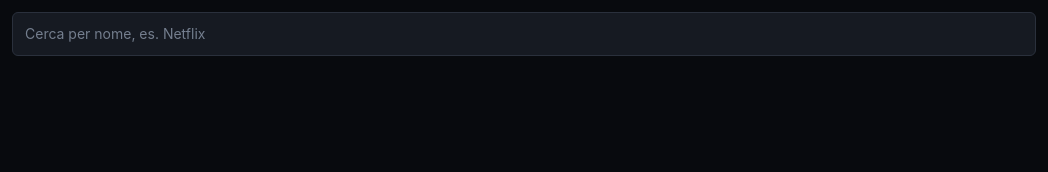
Test: TvdbCompanySelect › dice quando non trova nulla
The width and height of the screenshot is (1048, 172).
In the dropdown: (524, 34) [12, 12, 1036, 56], type "zzz"
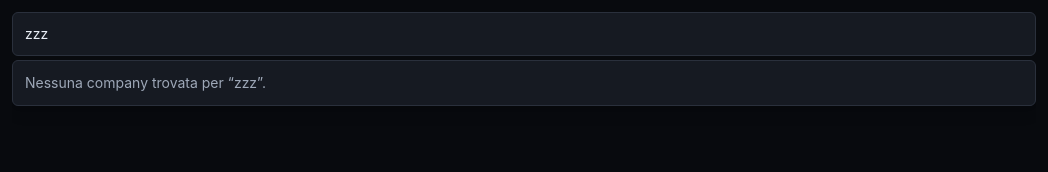
Check: the text "Nessuna company trovata per “zzz”." is shown, box [25, 74, 266, 91]
